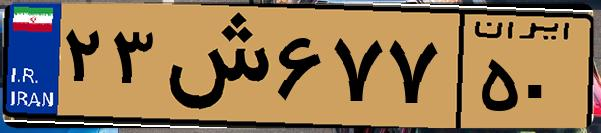0: (525, 38, 570, 115)
2: (57, 26, 110, 100)
3: (110, 28, 158, 98)
5: (475, 38, 525, 113)
6: (270, 28, 330, 110)
7: (385, 28, 445, 110), (330, 28, 385, 110)
ش: (158, 12, 270, 120)
